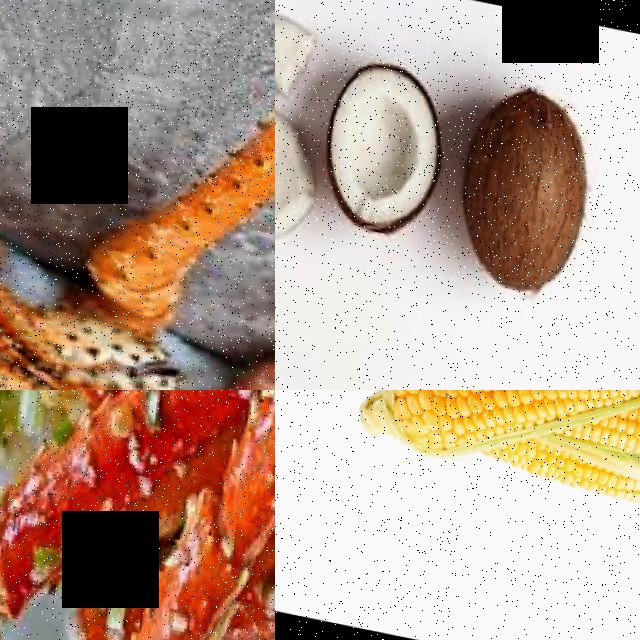coconut: (437, 71, 608, 307), (303, 50, 460, 246)
corn: (368, 390, 585, 484), (492, 431, 640, 515)
crab: (0, 390, 275, 640), (0, 121, 224, 390)
